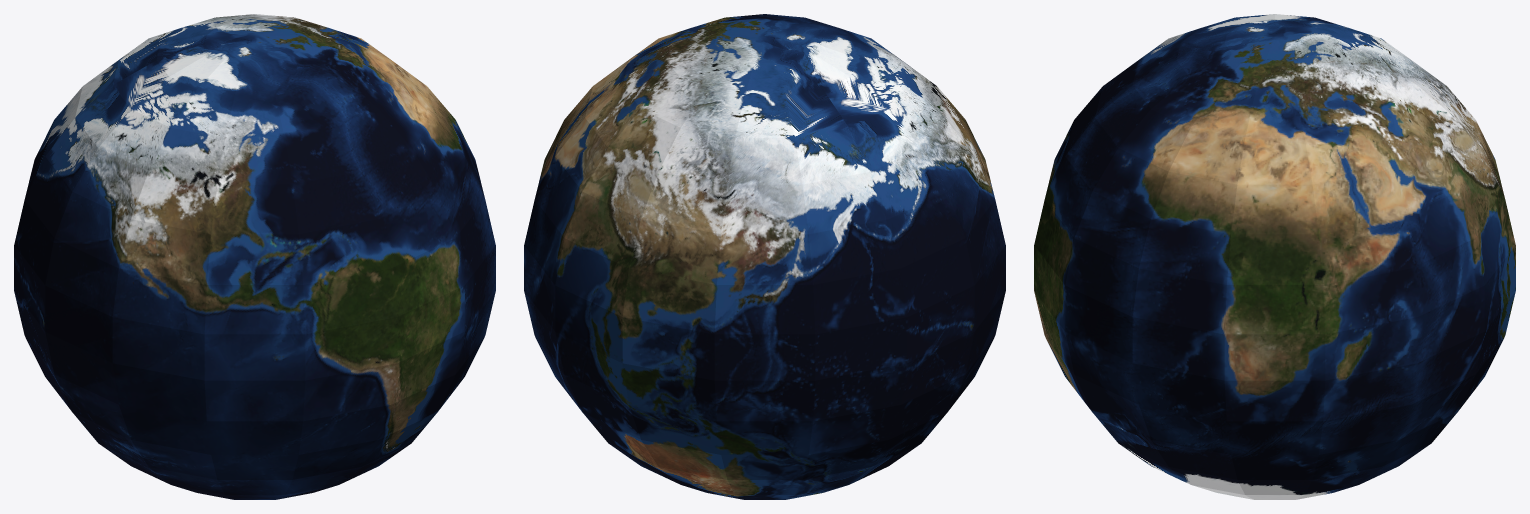
Rendered from earth.dae.
3 renders of one model, left to right at view 1: azimuth 30°, elevation 25°; view 2: azimuth 150°, elevation 25°; view 3: azimuth 270°, elevation 25°, orthographic.
Parts seen in each view (by area): view 1: Sphere; view 2: Sphere; view 3: Sphere.
Part boxes in pixels (x1,y1,x2,y2): Sphere: (14, 14, 495, 499); Sphere: (524, 14, 1005, 499); Sphere: (1034, 14, 1515, 499).
Bounding box in the file's own units: 1.97 × 1.98 × 2.
1 material, 1 textured.
